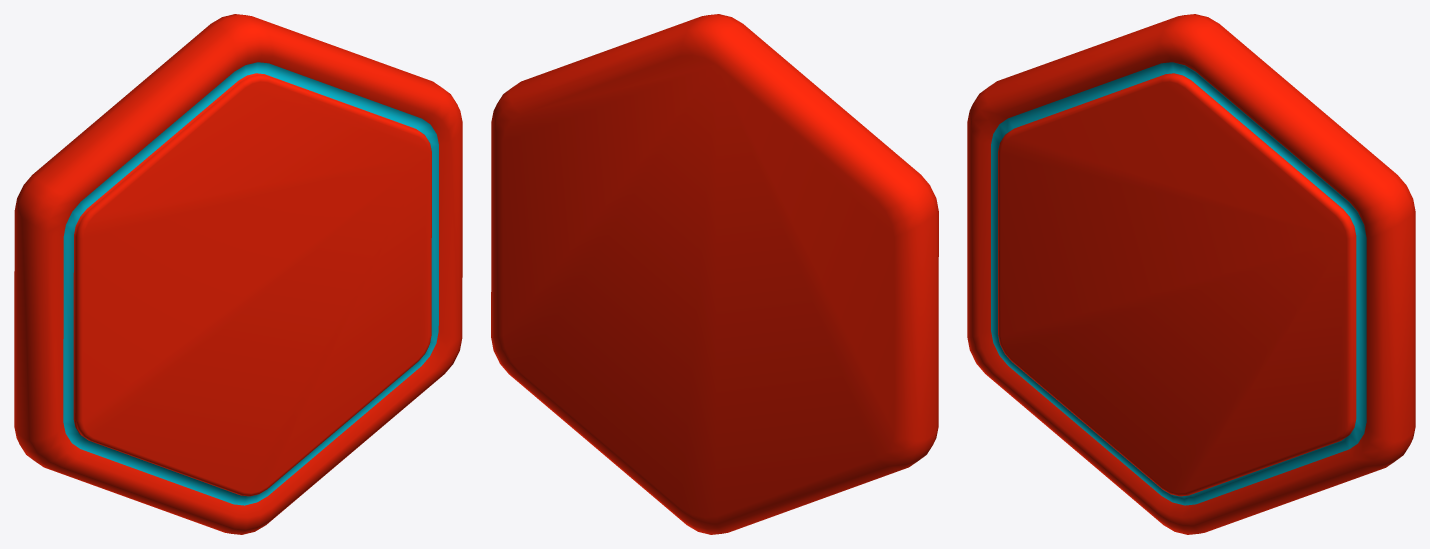
Rendered from scorebox.fbx.
3 renders of one model, left to right at view 1: azimuth 30°, elevation 25°; view 2: azimuth 150°, elevation 25°; view 3: azimuth 330°, elevation 25°, orthographic.
Parts seen in each view (by area): view 1: scorebox; view 2: scorebox; view 3: scorebox.
Part boxes in pixels (left/top/right/bottom): scorebox: left=14, top=14, right=462, bottom=534; scorebox: left=491, top=14, right=938, bottom=534; scorebox: left=967, top=14, right=1415, bottom=534.
Size of the model in its own units: 0.8408 by 0.1161 by 0.9455.
